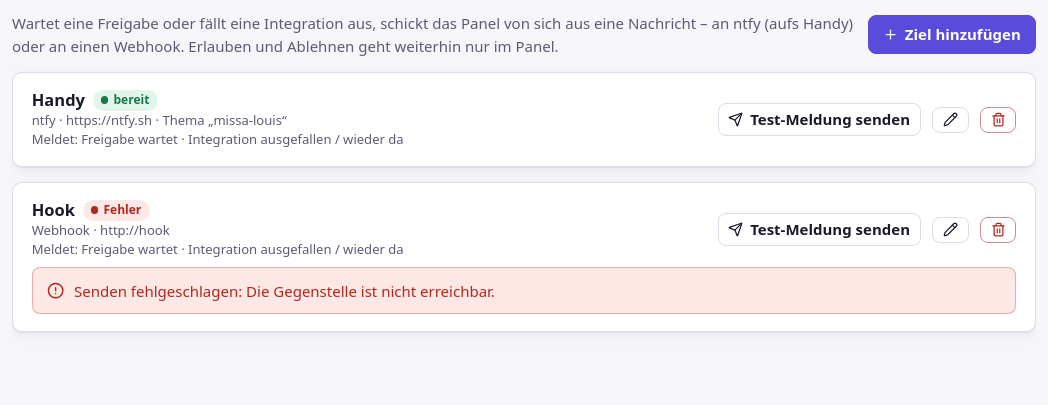
Test-Meldung: Erfolg und Grund des Fehlers stehen am Ziel
expect the text "Senden fehlgeschlagen: Die Gegenstelle ist nicht erreichbar." is shown: met, box top-left (74, 280), bottom-right (495, 302)
expect the text "Meldet: Freigabe wartet · Integration ausgefallen" below "bereit" is shown: met, box top-left (32, 130), bottom-right (404, 148)
Click the button "Test-Meldung senden" in the row of "bereit". click: coordinates (819, 120)
box: top-left (718, 103), bottom-right (921, 136)
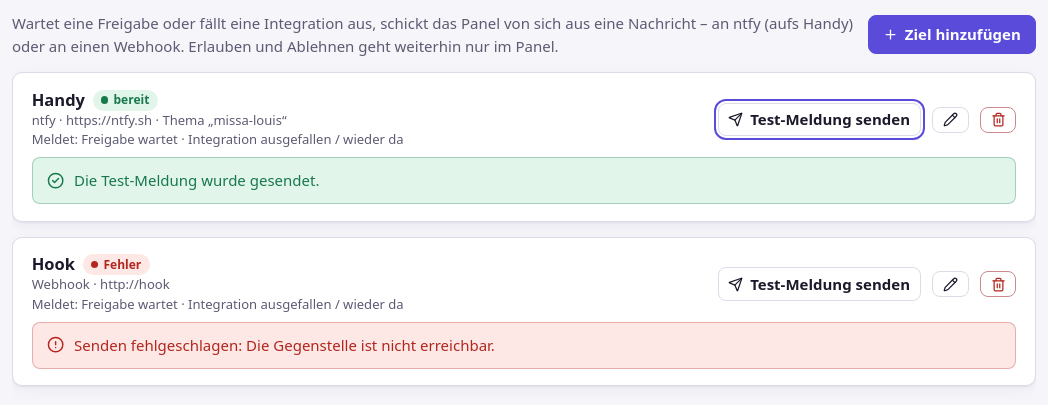
expect the text "Die Test-Meldung wurde gesendet." is shown: met, box top-left (74, 169), bottom-right (320, 192)
